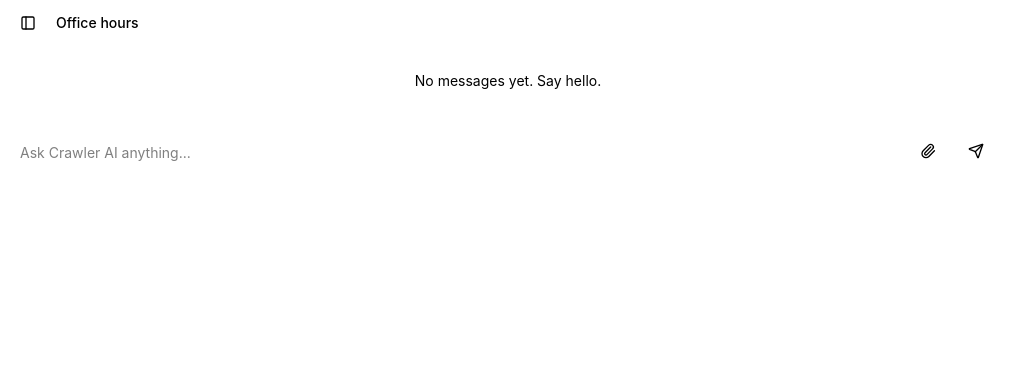
it: Stop on the chat page › cuts the stream when the stop request fails
The width and height of the screenshot is (1015, 372).
In the text box named "Message": (460, 153) [20,135,900,171], type "find the office hours"
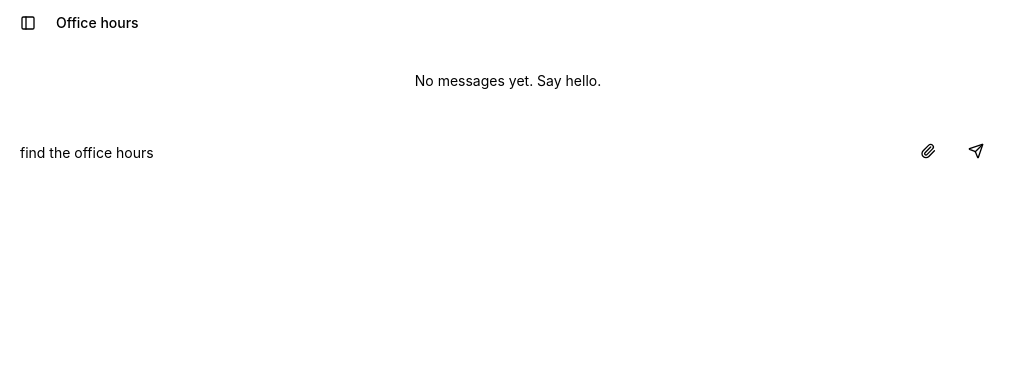
Press Enter in the text box named "Message", box [20,135,900,171]
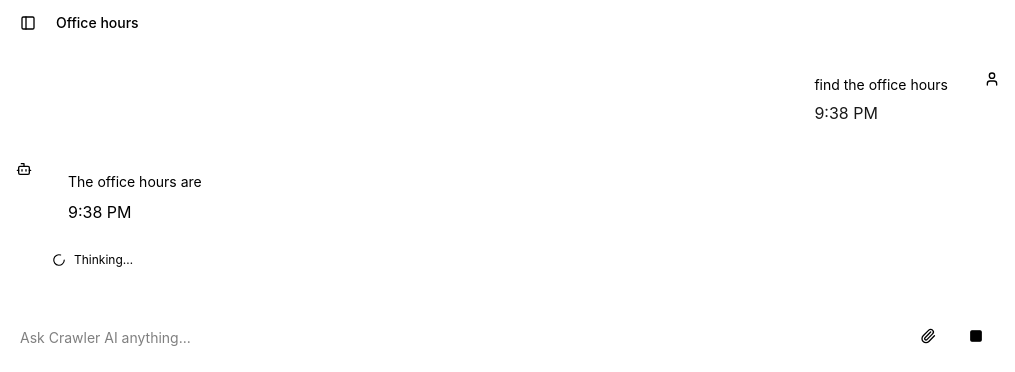
Now the button named "Stop generating" is shown
Click the button named "Stop generating": (976, 336) [956,316,996,356]
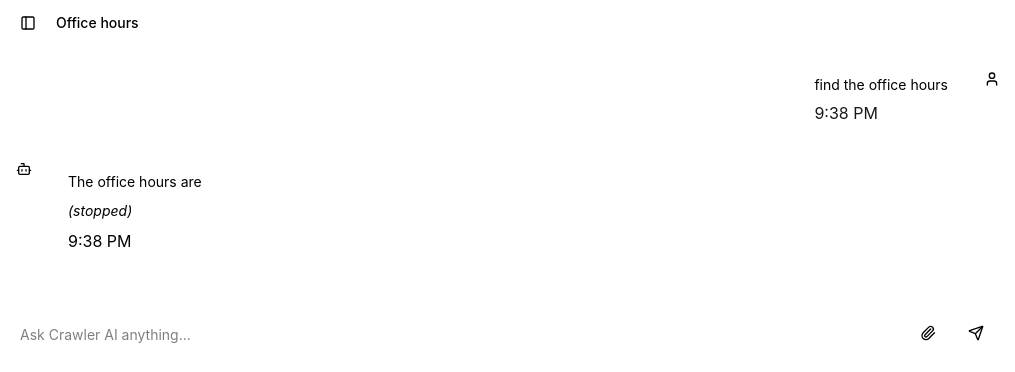
Now the text "The office hours are" is shown, box [68,171,202,194]
Now the text "(stopped)" is shown, box [68,202,132,219]
